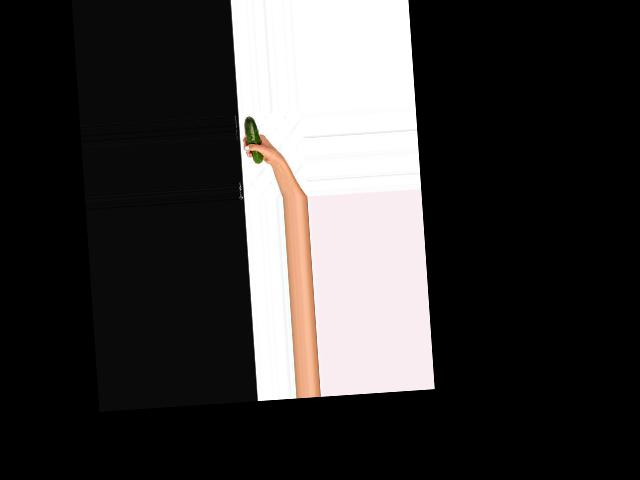cucumber: (243, 115, 263, 164)
